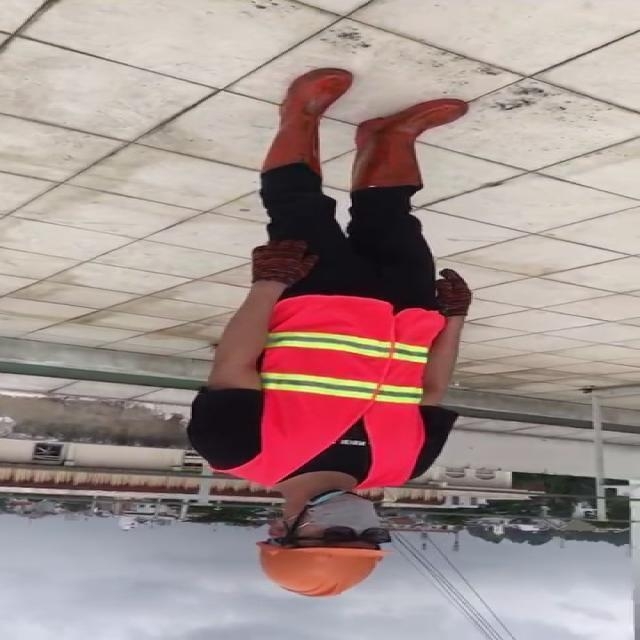gloves: (247, 233, 322, 286), (432, 264, 477, 319)
